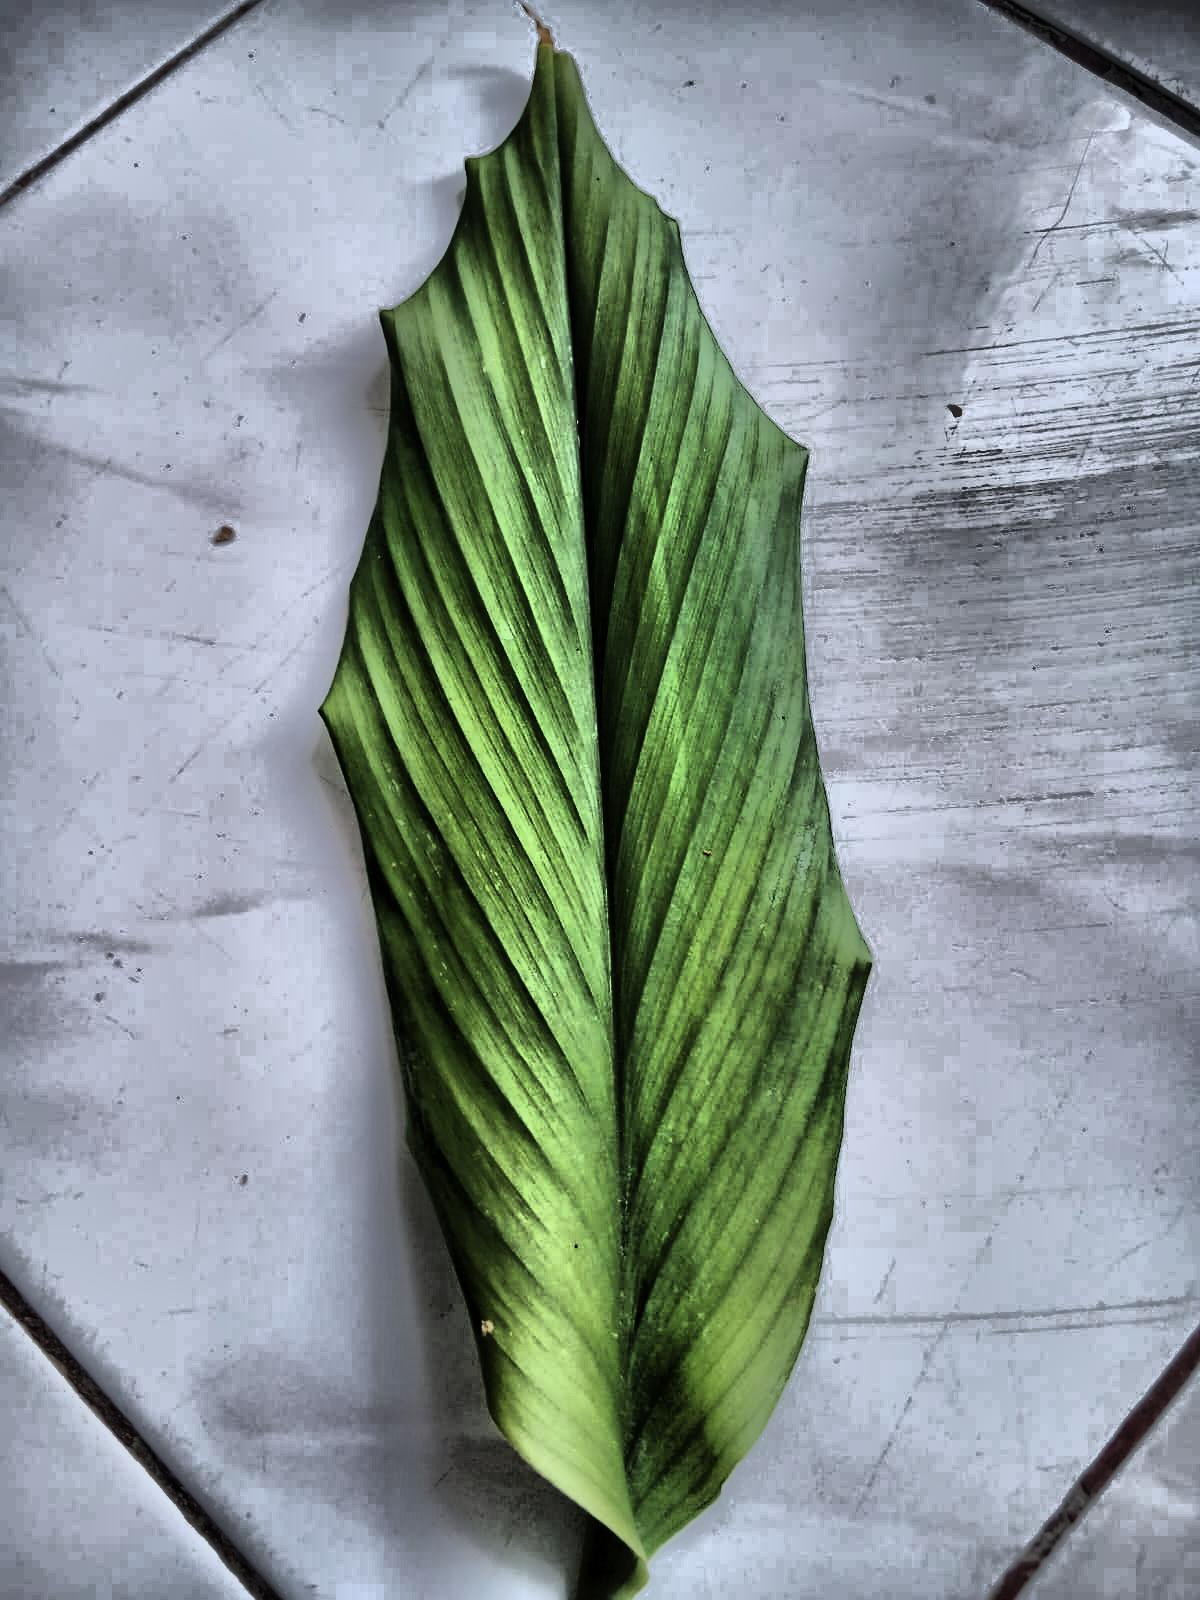daun kunyit: (321, 37, 870, 1599)
